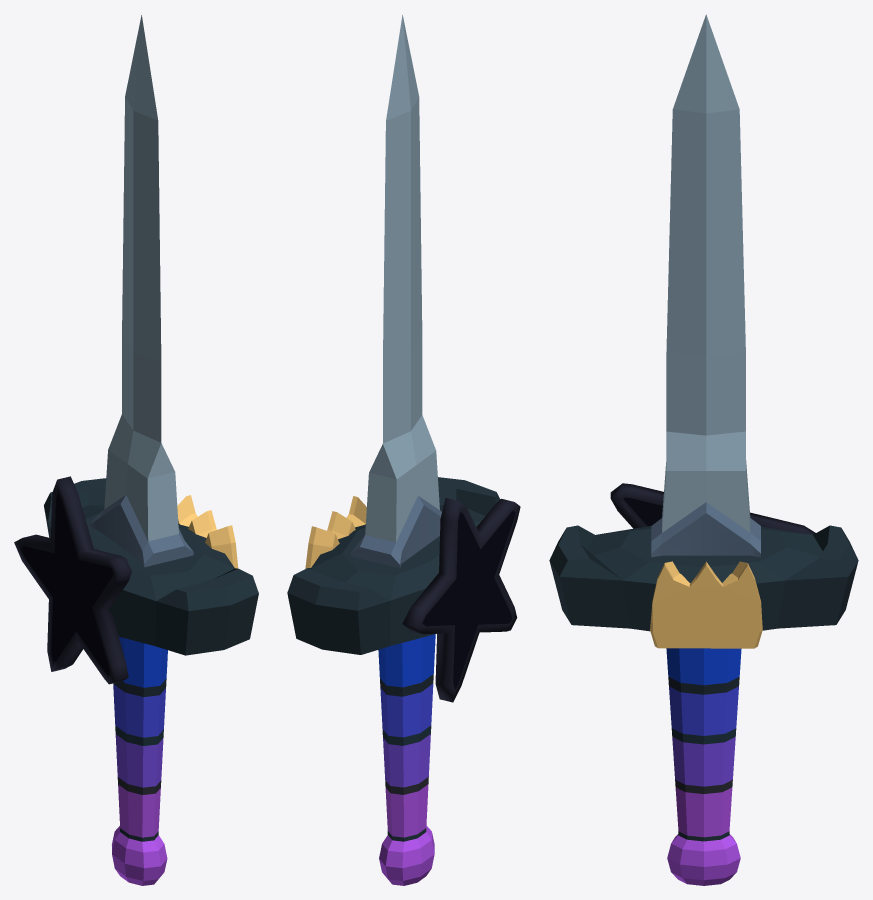
File: BPBrandedKnife.fbx
The picture shows the model from 3 angles, left to right: view 1: azimuth 30°, elevation 25°; view 2: azimuth 150°, elevation 25°; view 3: azimuth 270°, elevation 25°; orthographic projection.
Visible parts, largest first — view 1: BPBrandedKnife; view 2: BPBrandedKnife; view 3: BPBrandedKnife.
Boxes of the visible parts, <box> form: BPBrandedKnife: <box>14,15,258,885</box>; BPBrandedKnife: <box>287,15,520,885</box>; BPBrandedKnife: <box>549,14,858,885</box>.
Bounding box in the file's own units: 18.81 × 110 × 35.63.
